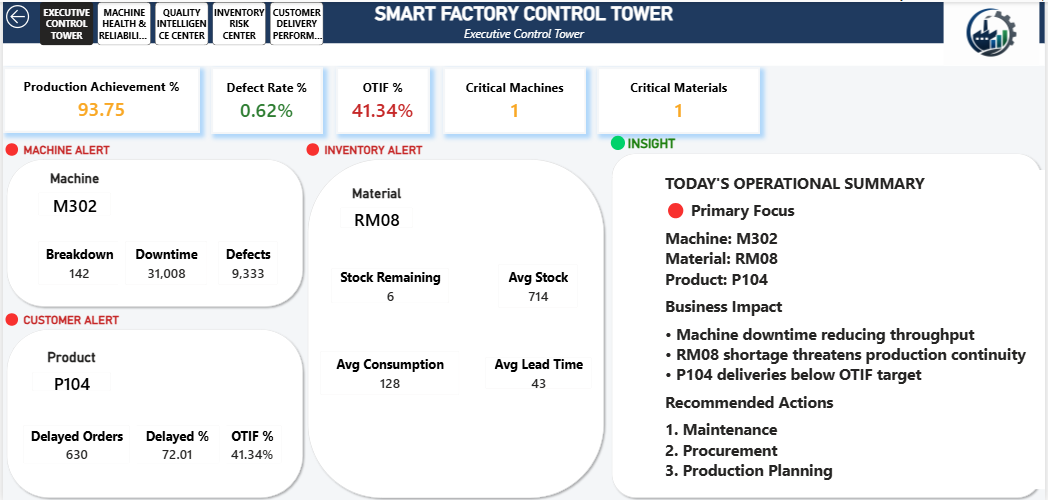

This screenshot's page, from the dashboard's own definition file:
{"tool":"powerbi","page":{"name":"EXECUTIVE CONTROL TOWER","canvas":[2500,1200],"ordinal":0},"visuals":[{"type":"cardVisual","fields":{"Data":["Measure.Production Achievement %"]},"box":[0,155.9,473.1,158.6],"z":0},{"type":"cardVisual","fields":{"Data":["Measure.Defect Rate %"]},"box":[500,155.9,268.8,161.3],"z":1000},{"type":"cardVisual","fields":{"Data":["Measure.OTIF %"]},"box":[798.4,155.9,225.8,161.3],"z":2000},{"type":"cardVisual","fields":{"Data":["Measure.Critical Machines"]},"box":[1056.5,155.9,344.1,161.3],"z":3000},{"type":"cardVisual","fields":{"Data":["Measure.Critical Materials"]},"box":[1424.7,155.9,392.5,161.3],"z":4000},{"type":"textbox","title":"SMART FACTORY CONTROL TOWER","box":[0,0,2500,153.2],"z":5000},{"type":"shape","title":"🔴 MACHINE ALERT","box":[0,330.6,728.5,408.6],"z":6000},{"type":"cardVisual","title":"Machine","fields":{"Data":["Min(Machine Risk.machine id)"]},"box":[67.2,403.2,209.7,126.3],"z":7000},{"type":"cardVisual","fields":{"Data":["Sum(Machine Risk.Breakdown count)"]},"box":[67.2,556.5,231.2,139.8],"z":8000},{"type":"cardVisual","fields":{"Data":["Measure.Total Downtime"]},"box":[276.9,556.5,231.2,139.8],"z":9000},{"type":"cardVisual","fields":{"Data":["Sum(Machine Risk.Total defect)"]},"box":[500,556.5,177.4,139.8],"z":10000},{"type":"shape","title":"🔴 INVENTORY ALERT","box":[723.1,331.7,728.5,868.3],"z":11000},{"type":"cardVisual","fields":{"Data":["Measure.Stock Remaining"]},"box":[771.5,622,317.2,118.3],"z":12000},{"type":"cardVisual","fields":{"Data":["Sum(Inventory Risk.Avg Lead Time)"]},"box":[1139.8,834.4,290.3,110.2],"z":13000},{"type":"cardVisual","fields":{"Data":["Sum(Inventory Risk.Avg Consumption)"]},"box":[744.6,820.9,368.3,139.8],"z":14000},{"type":"cardVisual","title":"Material","fields":{"Data":["Min(Inventory Risk.Material ID)"]},"box":[793,439.2,209.7,121],"z":15000},{"type":"shape","title":"🔴 CUSTOMER ALERT","box":[0,739.2,728.5,459.7],"z":16000},{"type":"cardVisual","title":"Product","fields":{"Data":["Min(Customer Risk.Product ID)"]},"box":[53.8,833.3,223.1,118.3],"z":17000},{"type":"cardVisual","fields":{"Data":["Measure.OTIF %"]},"box":[508.1,997.3,177.4,126.3],"z":18000},{"type":"cardVisual","fields":{"Data":["Sum(Customer Risk.Delayed Pct)"]},"box":[298.4,997.3,239.2,126.3],"z":19000},{"type":"cardVisual","fields":{"Data":["Measure.Delayed Orders"]},"box":[32.3,997.3,290.3,126.3],"z":20000},{"type":"shape","title":"🟢INSIGHT","box":[1451.6,314.5,1048.4,884.4],"z":21000},{"type":"textbox","box":[1583.3,403.2,916.7,766.1],"z":22000},{"type":"image","box":[2247.3,0,252.7,153.2],"z":23000},{"type":"cardVisual","fields":{"Data":["Sum(Inventory Risk.Avg Stock)"]},"box":[1172,611.3,225.8,139.8],"z":24000},{"type":"pageNavigator","box":[88.7,0,682.8,104.8],"z":25000},{"type":"actionButton","box":[0,0,115,70],"z":26000}]}

Visuals, with their boxes in screenshot pixels (x1, y1, x2, y2), scaled from the page's 2500x1200 canvas onto the 1048x500 screenshot:
cardVisual - Measure.Production Achievement %: <region>0, 65, 198, 131</region>
cardVisual - Measure.Defect Rate %: <region>210, 65, 322, 132</region>
cardVisual - Measure.OTIF %: <region>335, 65, 429, 132</region>
cardVisual - Measure.Critical Machines: <region>443, 65, 587, 132</region>
cardVisual - Measure.Critical Materials: <region>597, 65, 762, 132</region>
"SMART FACTORY CONTROL TOWER" textbox: <region>0, 0, 1047, 64</region>
"🔴 MACHINE ALERT" shape: <region>0, 138, 305, 308</region>
"Machine" cardVisual: <region>28, 168, 116, 221</region>
cardVisual - Sum(Machine Risk.Breakdown count): <region>28, 232, 125, 290</region>
cardVisual - Measure.Total Downtime: <region>116, 232, 213, 290</region>
cardVisual - Sum(Machine Risk.Total defect): <region>210, 232, 284, 290</region>
"🔴 INVENTORY ALERT" shape: <region>303, 138, 609, 499</region>
cardVisual - Measure.Stock Remaining: <region>323, 259, 456, 308</region>
cardVisual - Sum(Inventory Risk.Avg Lead Time): <region>478, 348, 599, 394</region>
cardVisual - Sum(Inventory Risk.Avg Consumption): <region>312, 342, 467, 400</region>
"Material" cardVisual: <region>332, 183, 420, 233</region>
"🔴 CUSTOMER ALERT" shape: <region>0, 308, 305, 499</region>
"Product" cardVisual: <region>23, 347, 116, 396</region>
cardVisual - Measure.OTIF %: <region>213, 416, 287, 468</region>
cardVisual - Sum(Customer Risk.Delayed Pct): <region>125, 416, 225, 468</region>
cardVisual - Measure.Delayed Orders: <region>14, 416, 135, 468</region>
"🟢INSIGHT" shape: <region>609, 131, 1047, 499</region>
textbox: <region>664, 168, 1047, 487</region>
image: <region>942, 0, 1047, 64</region>
cardVisual - Sum(Inventory Risk.Avg Stock): <region>491, 255, 586, 313</region>
pageNavigator: <region>37, 0, 323, 44</region>
actionButton: <region>0, 0, 48, 29</region>
